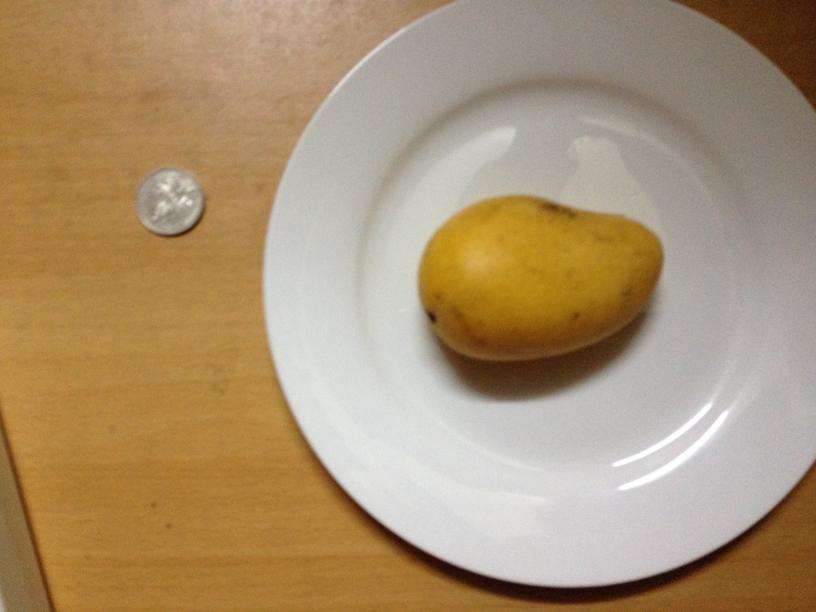coin: (138, 169, 203, 235)
mango: (416, 195, 664, 360)
